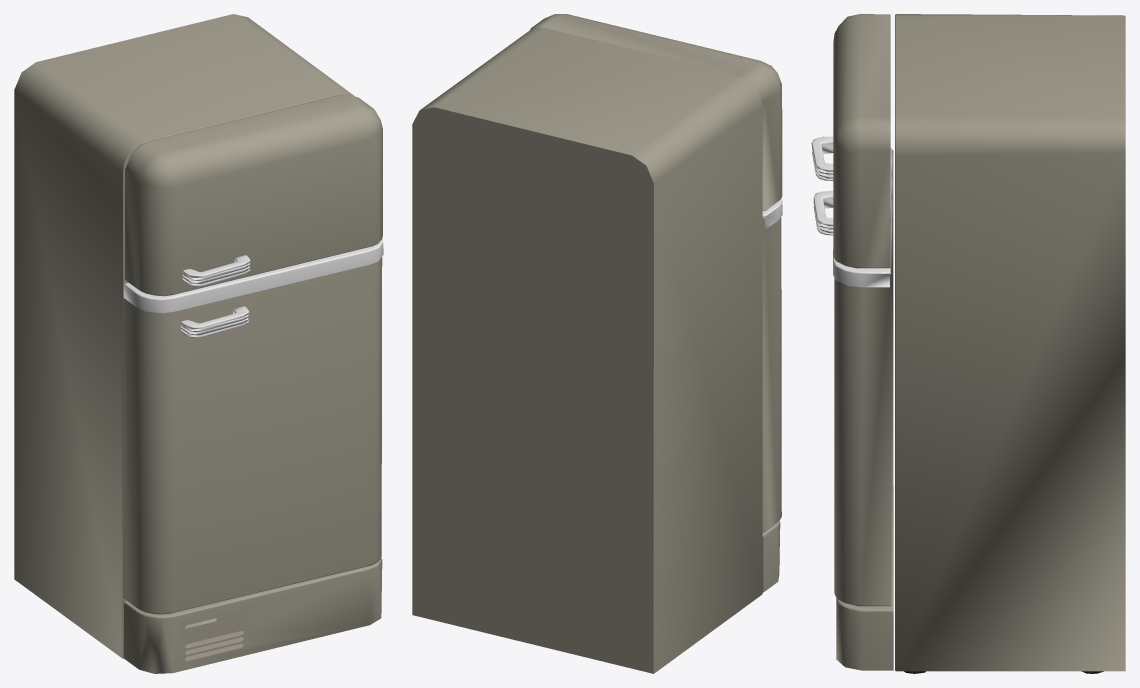
File: old_fridge.glb
3 renders of one model, left to right at view 1: azimuth 30°, elevation 25°; view 2: azimuth 150°, elevation 25°; view 3: azimuth 270°, elevation 25°, orthographic. The views are drawn at different scales.
Visible parts, largest first — view 1: ferme_Mat.5_0.004, ferme_Mat.5_0.003, ferme_Mat.5_0.001, ferme_Mat.5_0.002, ferme_Mat_0.007, ferme_Mat_0.009, ferme_Mat_0.008; view 2: ferme_Mat.5_0.004, ferme_Mat.5_0.001, ferme_Mat.5_0.003, ferme_Mat.5_0.002; view 3: ferme_Mat.5_0.004, ferme_Mat.5_0.003, ferme_Mat.5_0.001, ferme_Mat.5_0.002, ferme_Mat_0.007, ferme_Mat_0.008, ferme_Mat_0.009.
Boxes of the visible parts, x1=… form: ferme_Mat.5_0.004: x1=14, y1=14, x2=354, y2=658; ferme_Mat.5_0.003: x1=123, y1=257, x2=382, y2=614; ferme_Mat.5_0.001: x1=125, y1=94, x2=382, y2=296; ferme_Mat.5_0.002: x1=124, y1=558, x2=382, y2=673; ferme_Mat_0.007: x1=123, y1=239, x2=383, y2=313; ferme_Mat_0.009: x1=181, y1=306, x2=249, y2=337; ferme_Mat_0.008: x1=182, y1=255, x2=250, y2=286; ferme_Mat.5_0.004: x1=412, y1=27, x2=762, y2=673; ferme_Mat.5_0.001: x1=530, y1=14, x2=782, y2=211; ferme_Mat.5_0.003: x1=762, y1=217, x2=781, y2=532; ferme_Mat.5_0.002: x1=762, y1=521, x2=780, y2=592; ferme_Mat.5_0.004: x1=895, y1=14, x2=1125, y2=671; ferme_Mat.5_0.003: x1=834, y1=149, x2=893, y2=606; ferme_Mat.5_0.001: x1=833, y1=14, x2=890, y2=268; ferme_Mat.5_0.002: x1=836, y1=486, x2=893, y2=670; ferme_Mat_0.007: x1=833, y1=148, x2=891, y2=287; ferme_Mat_0.008: x1=811, y1=136, x2=833, y2=180; ferme_Mat_0.009: x1=813, y1=191, x2=833, y2=235.
Bounding box in the file's own units: 2.01 × 4.13 × 2.13.
